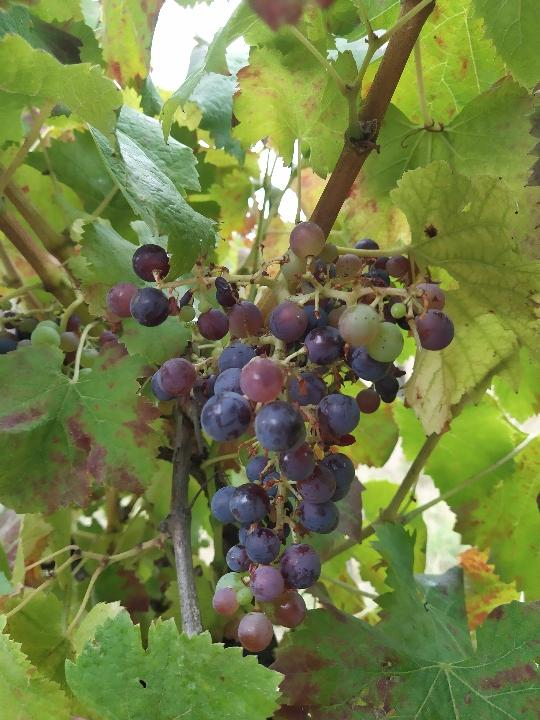grape: (111, 217, 452, 655)
